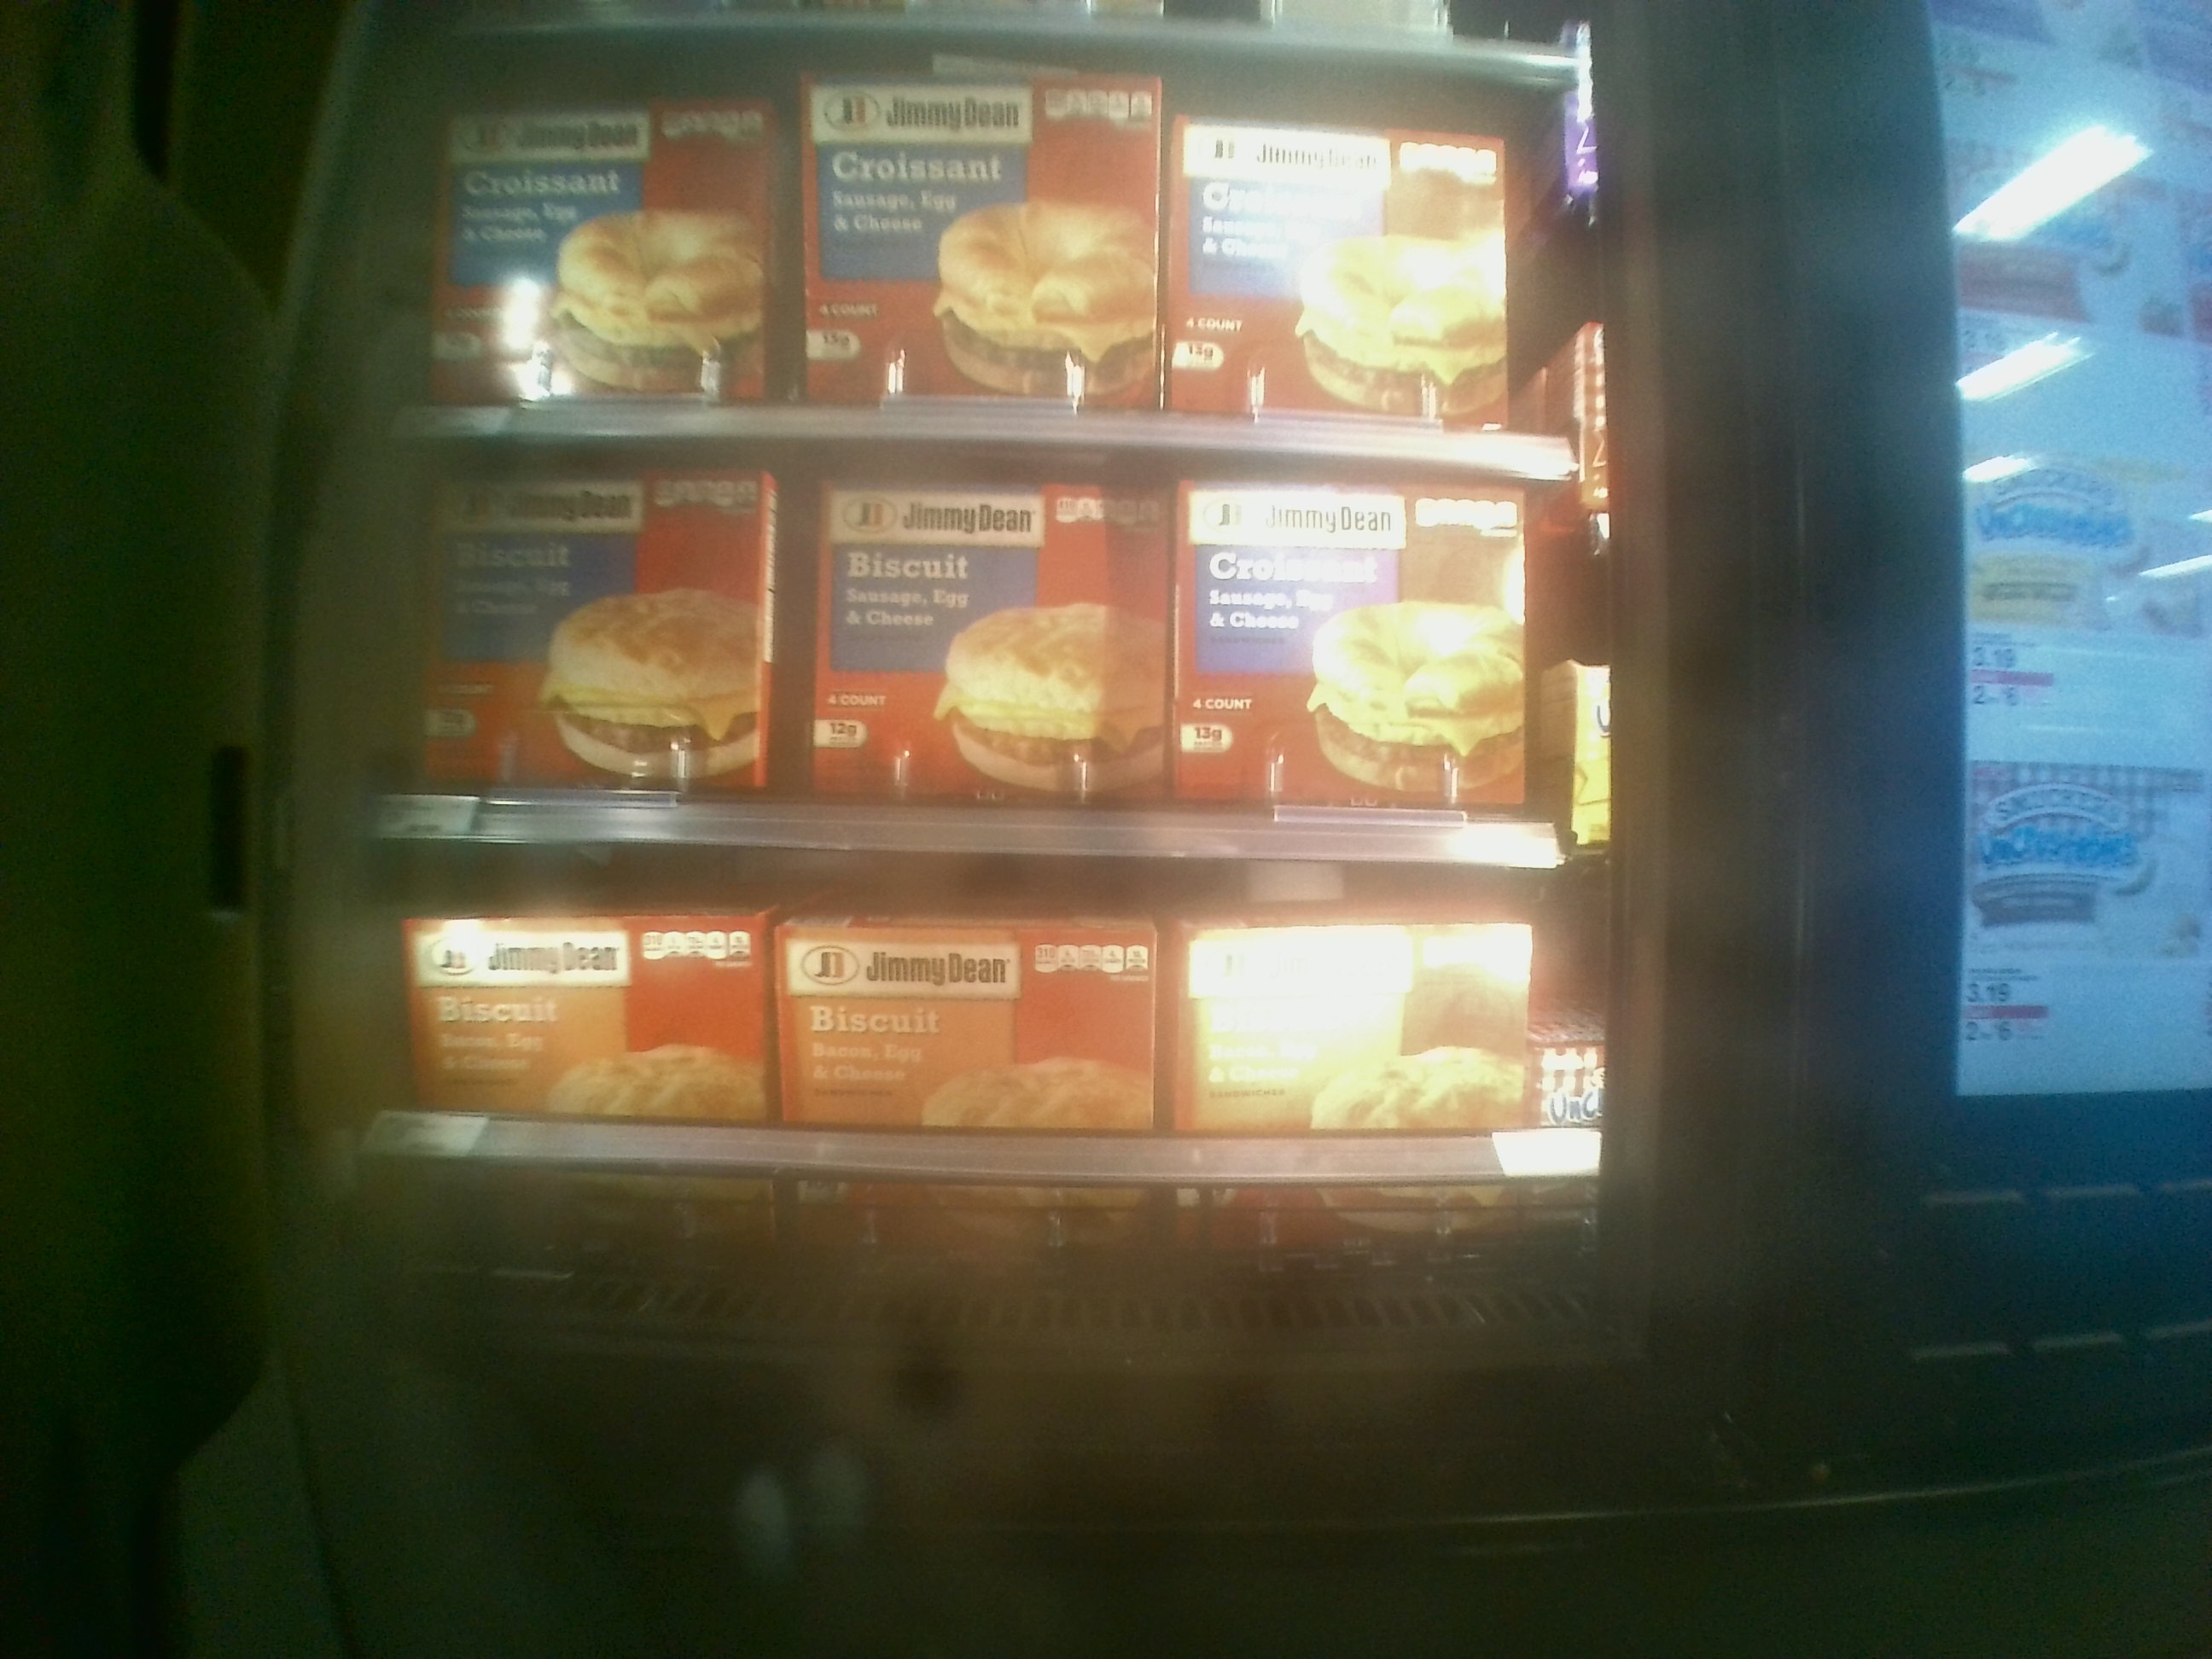shelf: (359, 842, 1606, 1303), (366, 443, 1555, 859)
